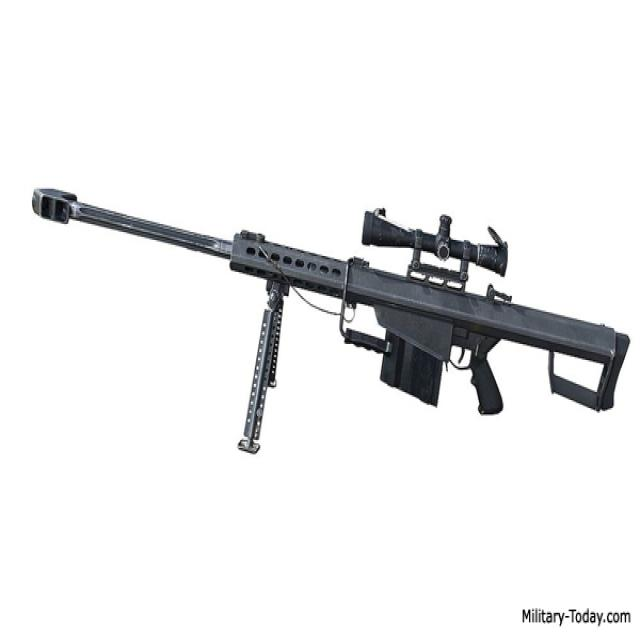Rifle: (32, 189, 633, 414)
